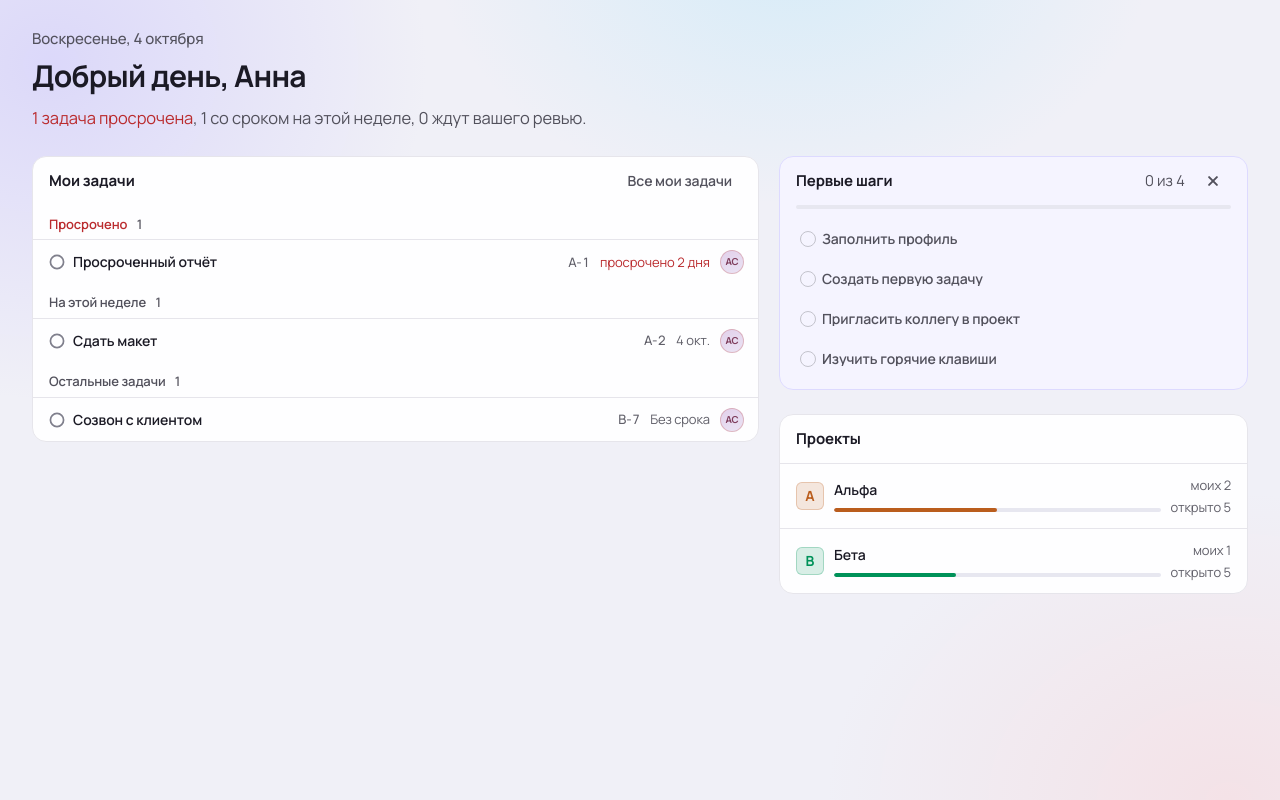
Test case: Главная › hide and complete first steps persist separately for each account
The image size is (1280, 800).
Click the button named "Скрыть первые шаги": (1213, 181) [1195,163,1231,199]
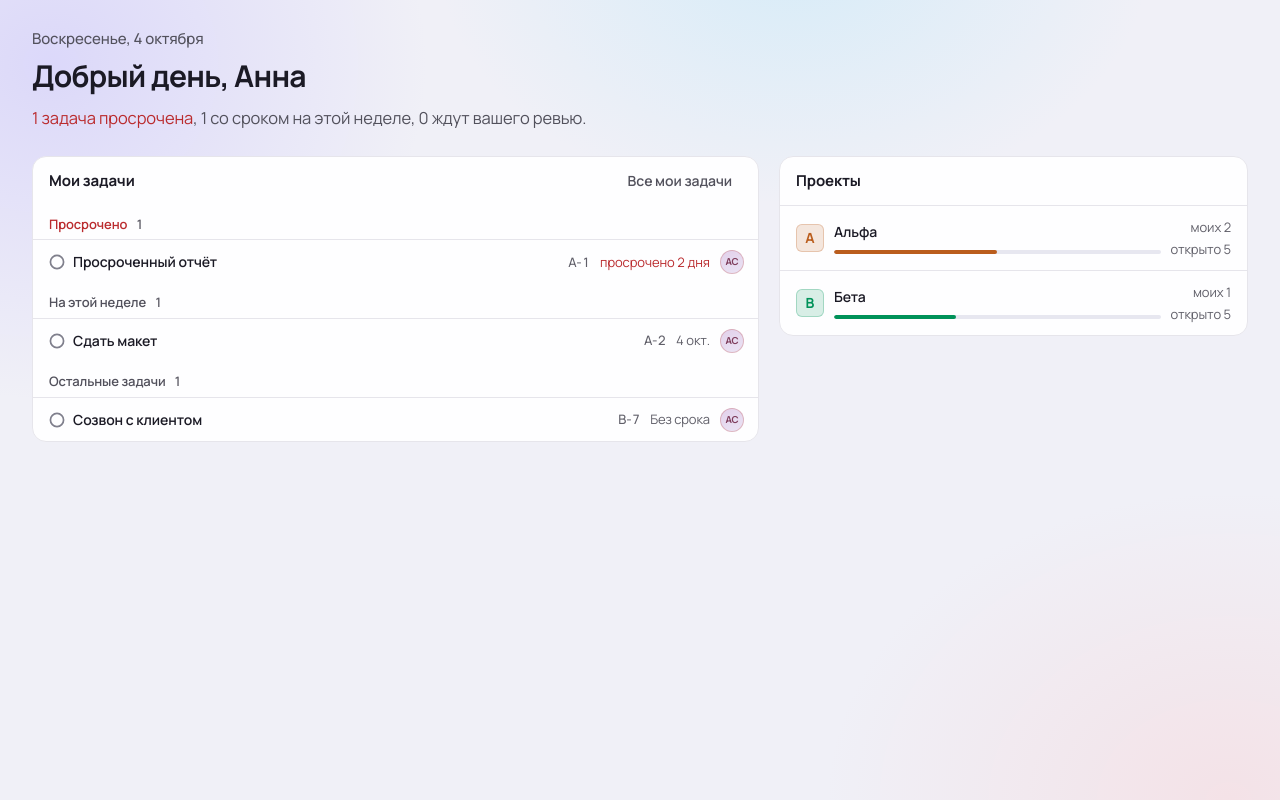
Expected: the heading "Первые шаги" is gone
